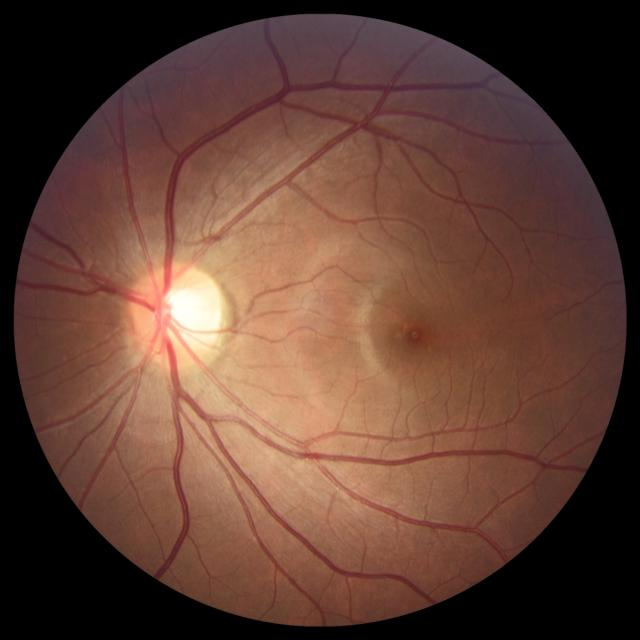OC: (157, 287, 211, 342)
OD: (130, 260, 224, 370)
